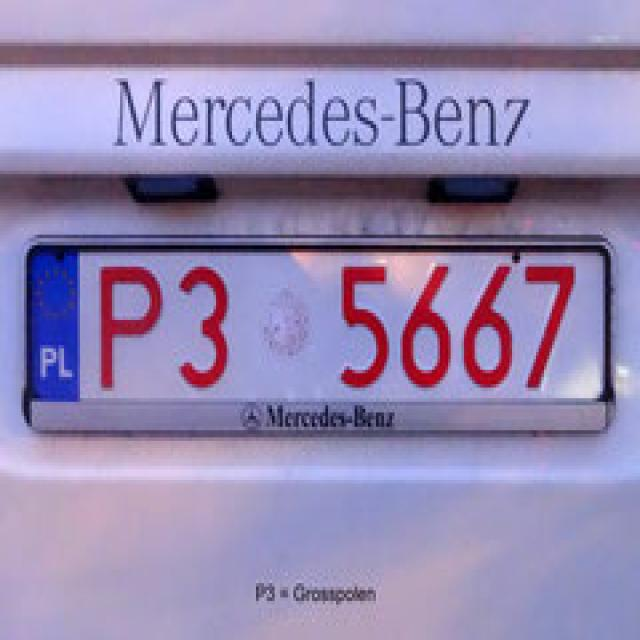pl_license_plate: (24, 242, 603, 394)
